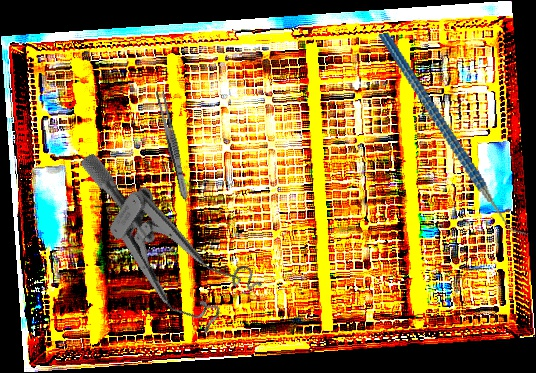Chopper: (377, 10, 533, 258)
Dressing Forceps: (153, 88, 192, 202)
Speculum: (37, 149, 276, 347)
